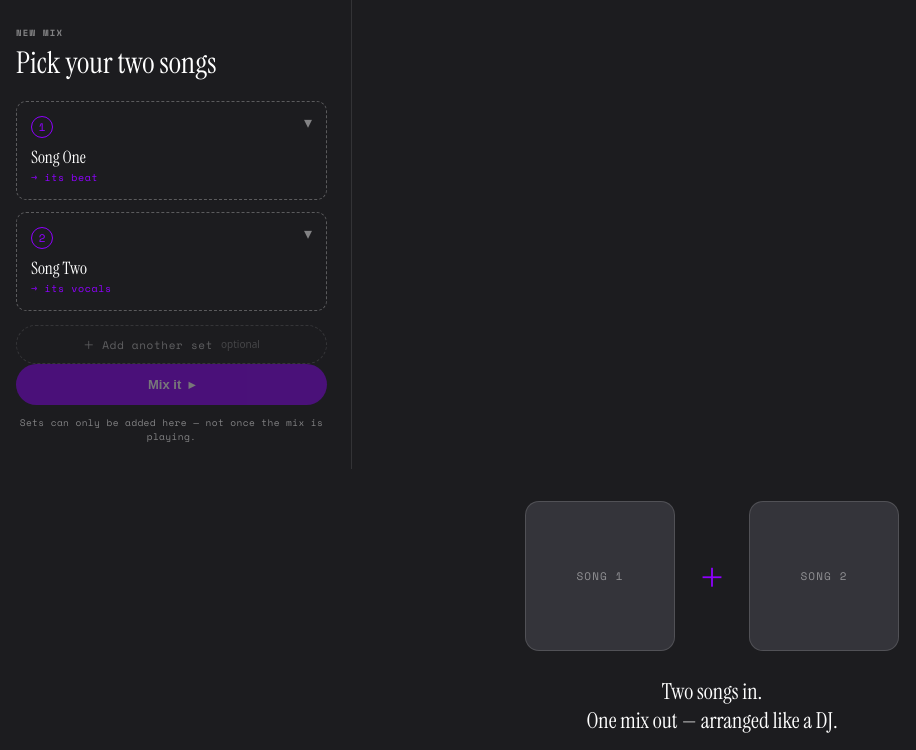
Song 1 offers only beats; Song 2 offers only vocals
Click the button with test id "song-slot-1": (58, 156) [16,100,327,200]
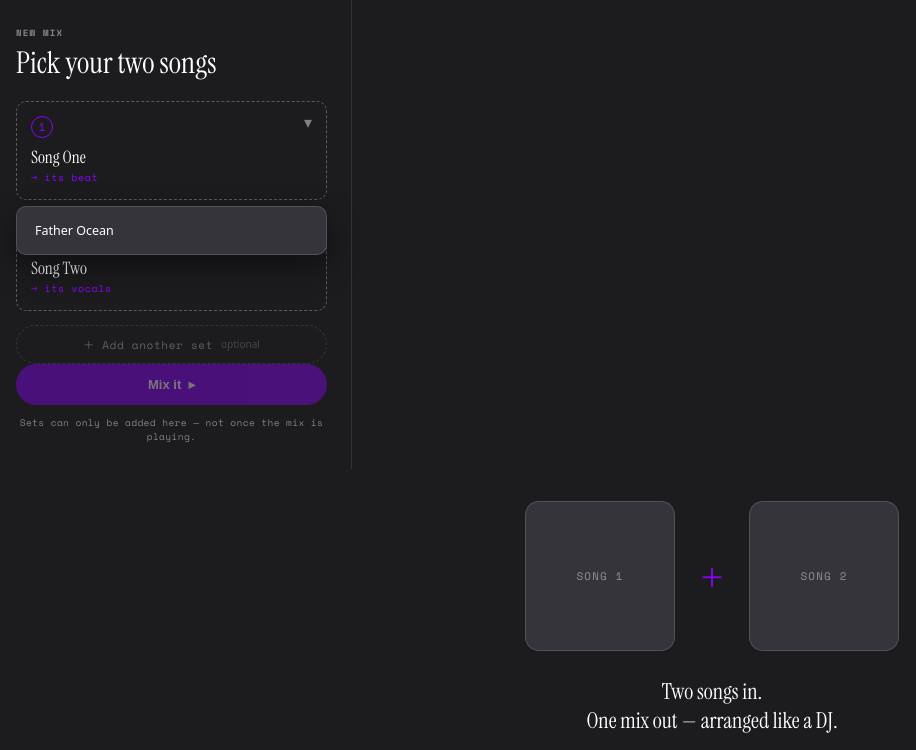
Expected: the option "rather be" is not shown
Now the option "Father Ocean" is shown, box [23,212,320,248]
Click the button with test id "song-slot-2": (59, 268) [16,212,327,310]
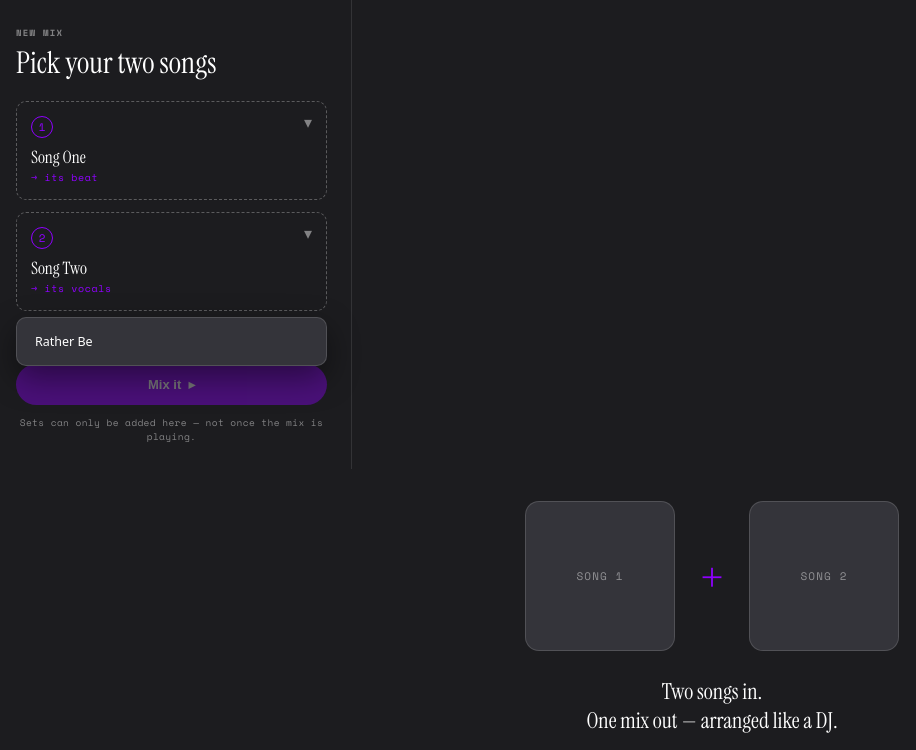
Now the option "Rather Be" is shown, box [23,324,320,358]
Now the option "Father Ocean" is gone
